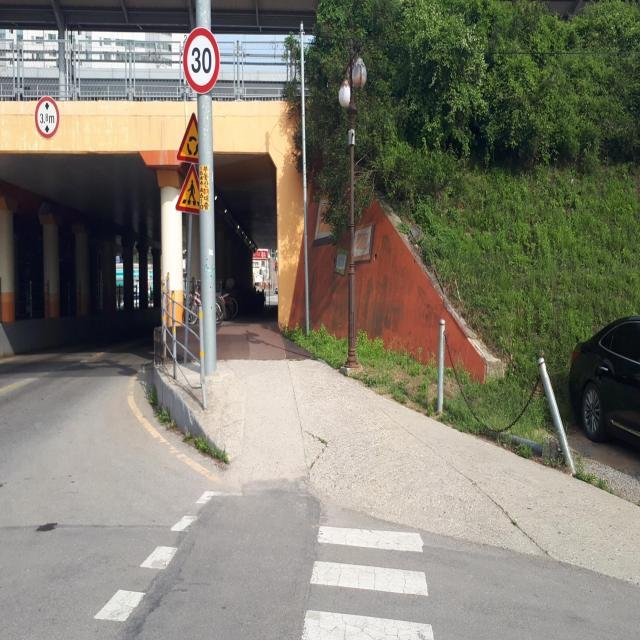횡단보도: (301, 523, 435, 640)
